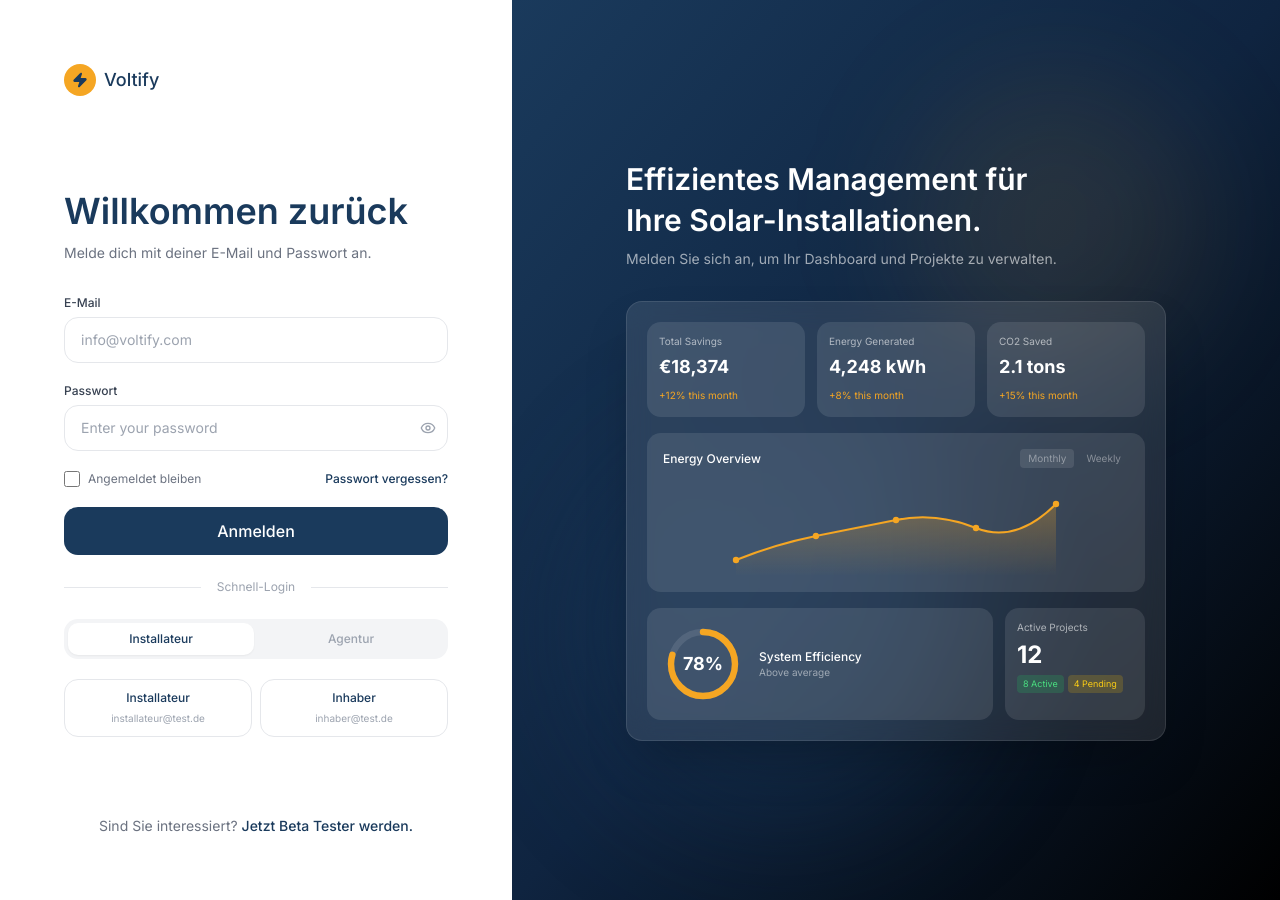
Scenario: Login › zeigt Ladezustand während des Logins
This screenshot has width=1280, height=900.
Type "test@test.de" into the field with placeholder "info@voltify.com" at (256, 340), box [64,317,448,363]
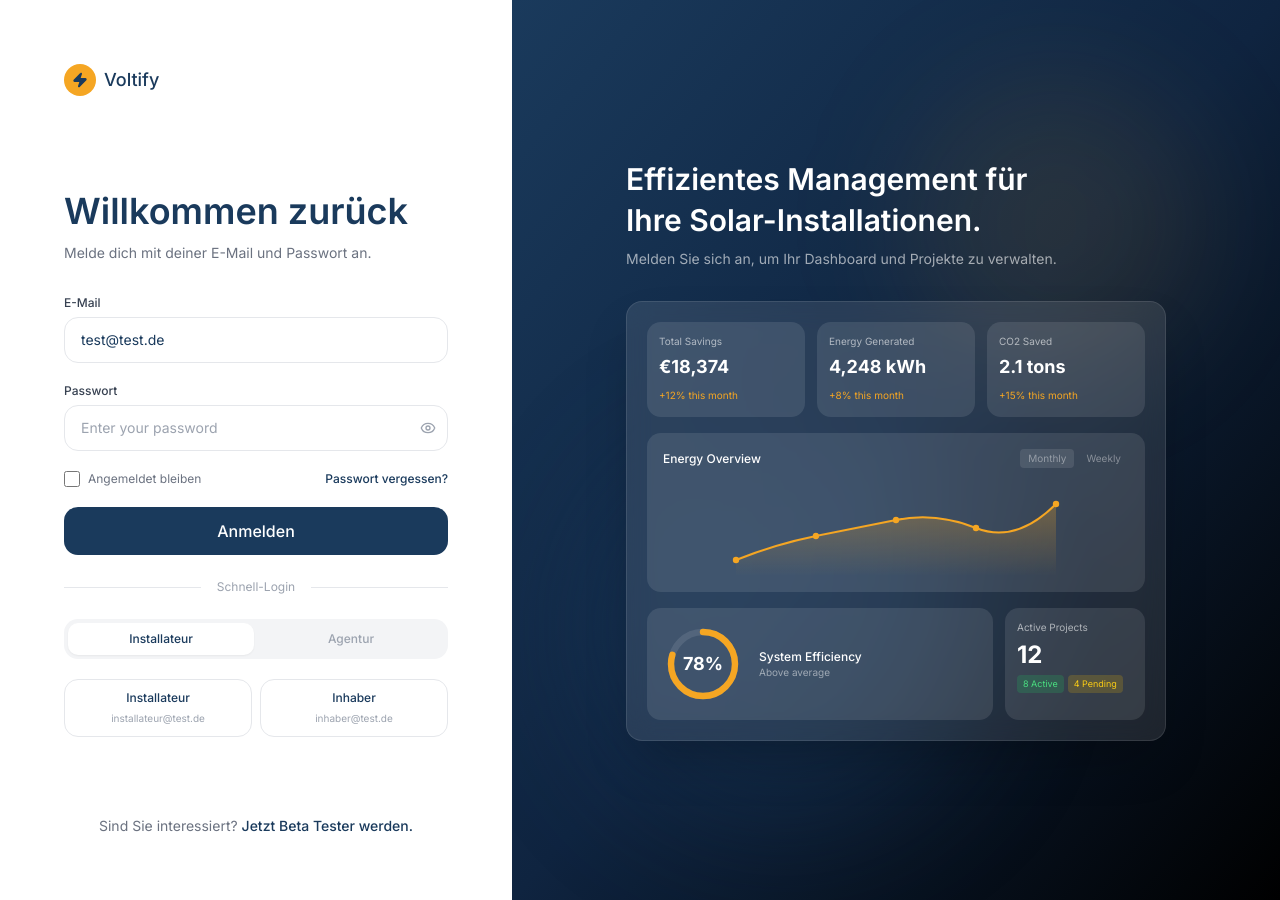
Type "passwort" into the password field with placeholder "Enter your password" at (256, 428), box [64,405,448,451]
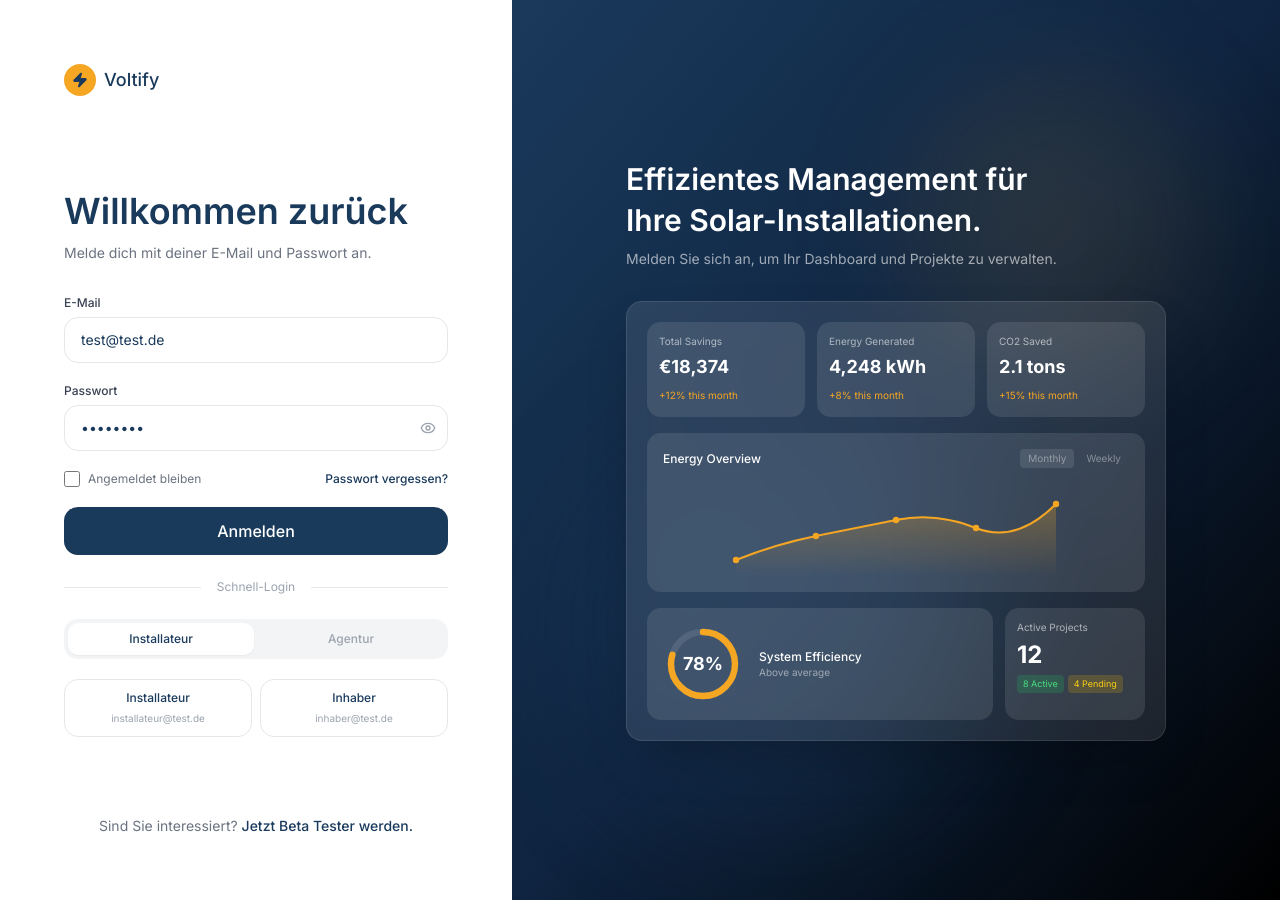
Click the button "Anmelden" at (256, 531), box [64,507,448,555]
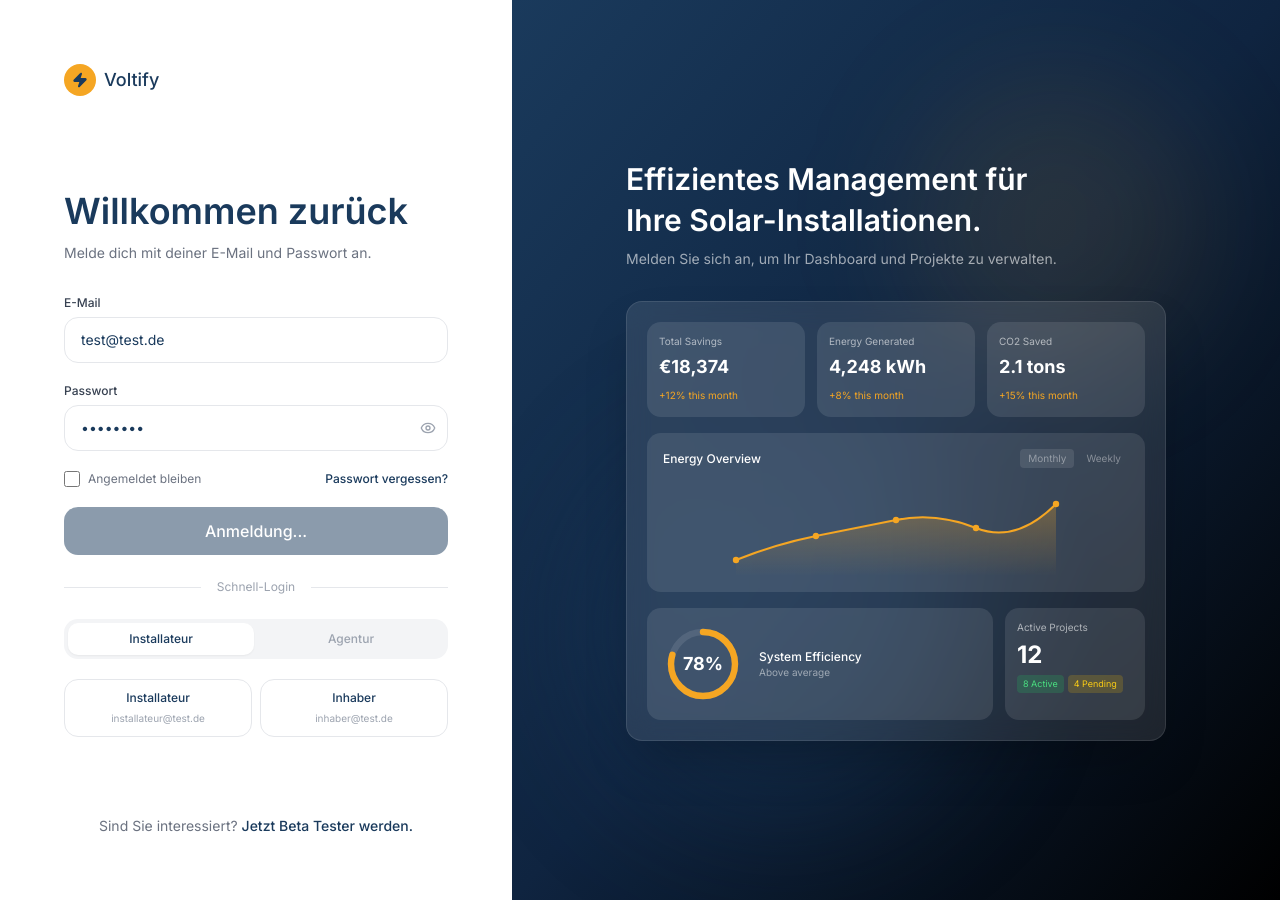
Expected: the button "Anmeldung..." is shown, [64,507,448,555]
